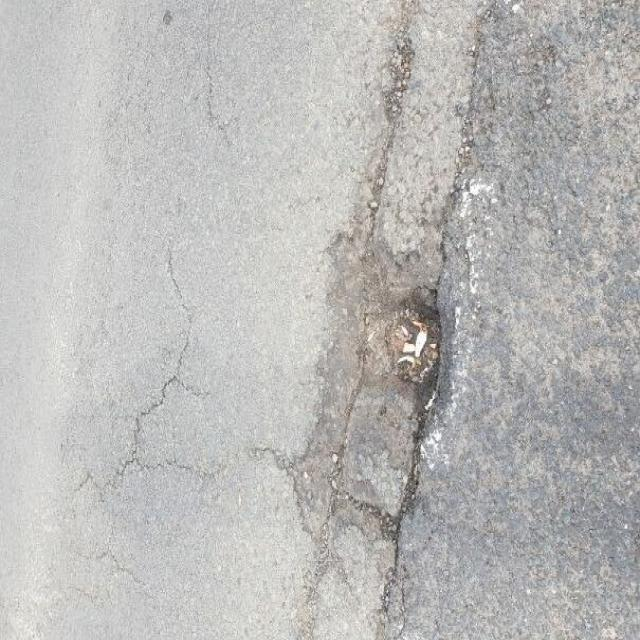Pothole: (286, 211, 461, 568)
